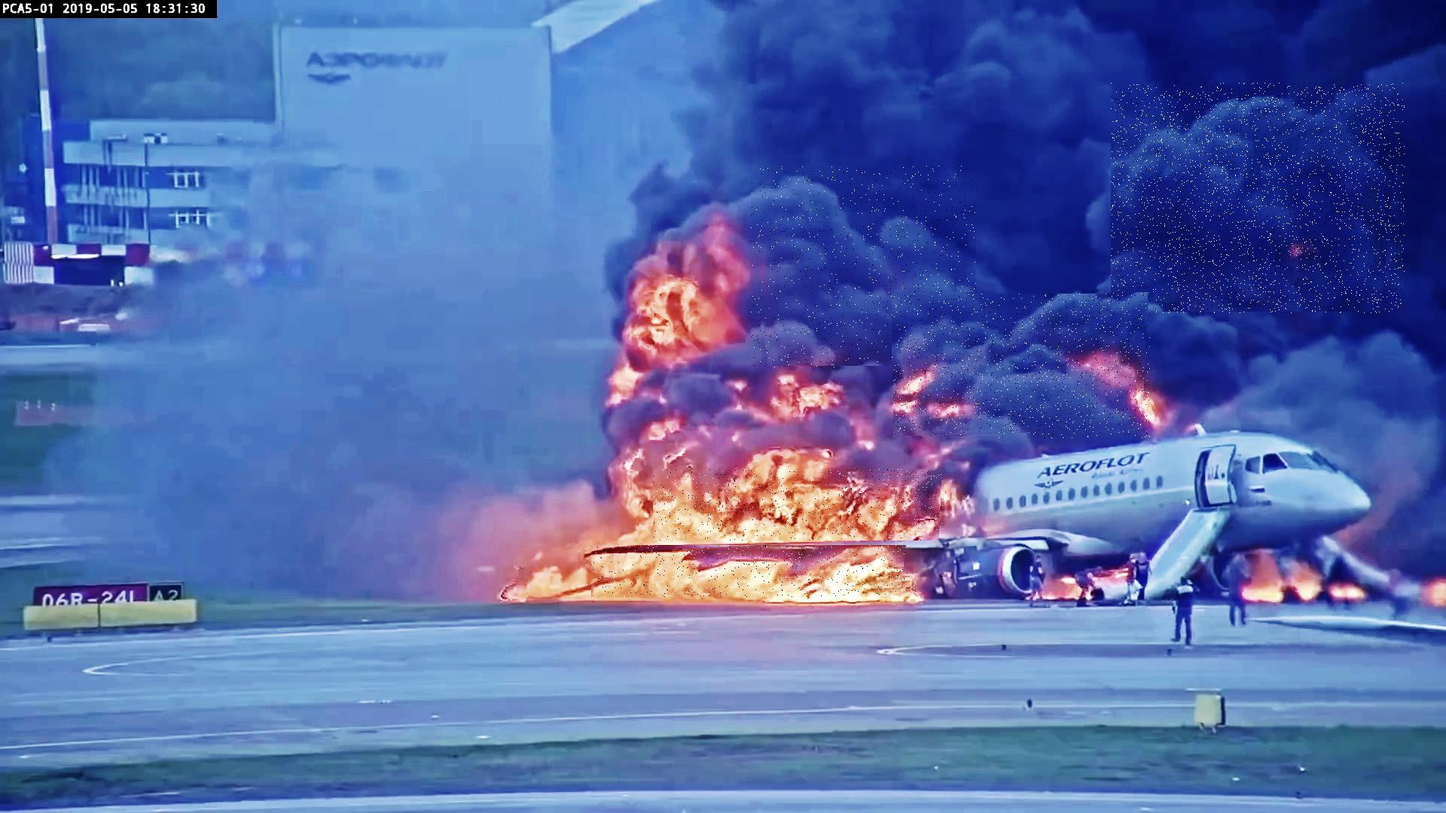fire: (654, 469, 944, 541), (592, 545, 909, 597)
smoke: (1111, 83, 1405, 314), (752, 166, 978, 368), (894, 294, 1151, 439)
